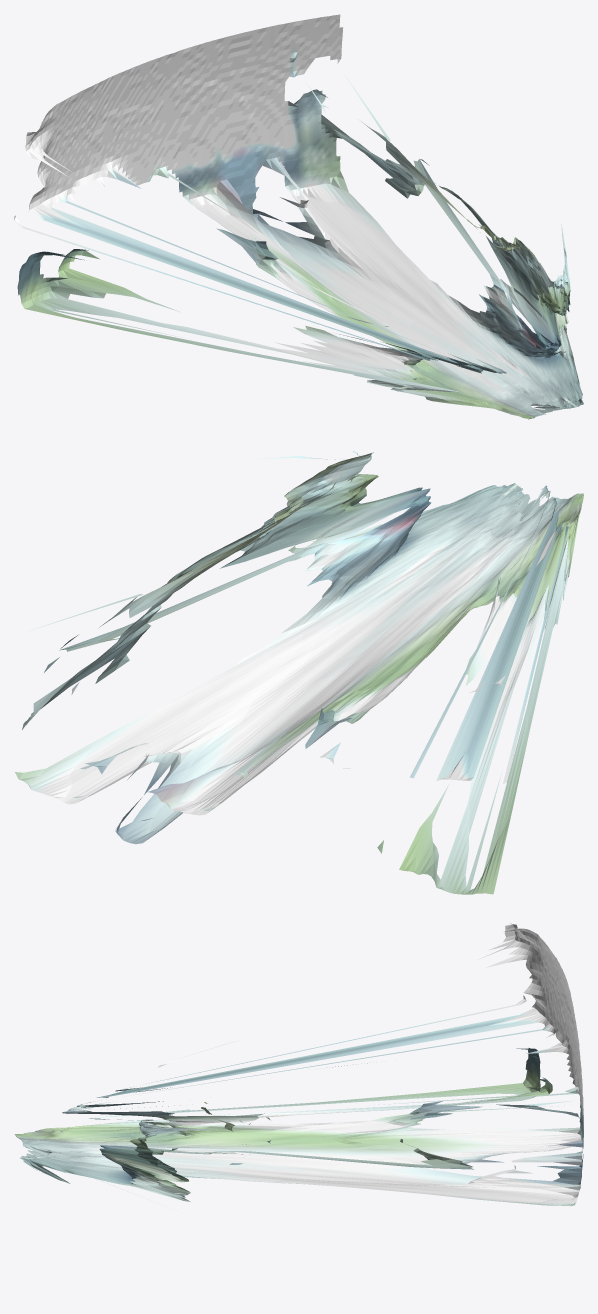
The picture shows the model from 3 angles, top to bottom: view 1: azimuth 30°, elevation 25°; view 2: azimuth 150°, elevation 25°; view 3: azimuth 270°, elevation 25°; orthographic projection. The views are drawn at different scales.
Visible parts, largest first — view 1: defaultobject; view 2: defaultobject; view 3: defaultobject.
Part boxes in pixels (x1,y1,x2,y2): defaultobject: (14, 14, 583, 419); defaultobject: (15, 451, 583, 894); defaultobject: (14, 923, 583, 1206).
Bounding box in the file's own units: 30.21 × 23.4 × 44.89.
1 material, 1 textured.
